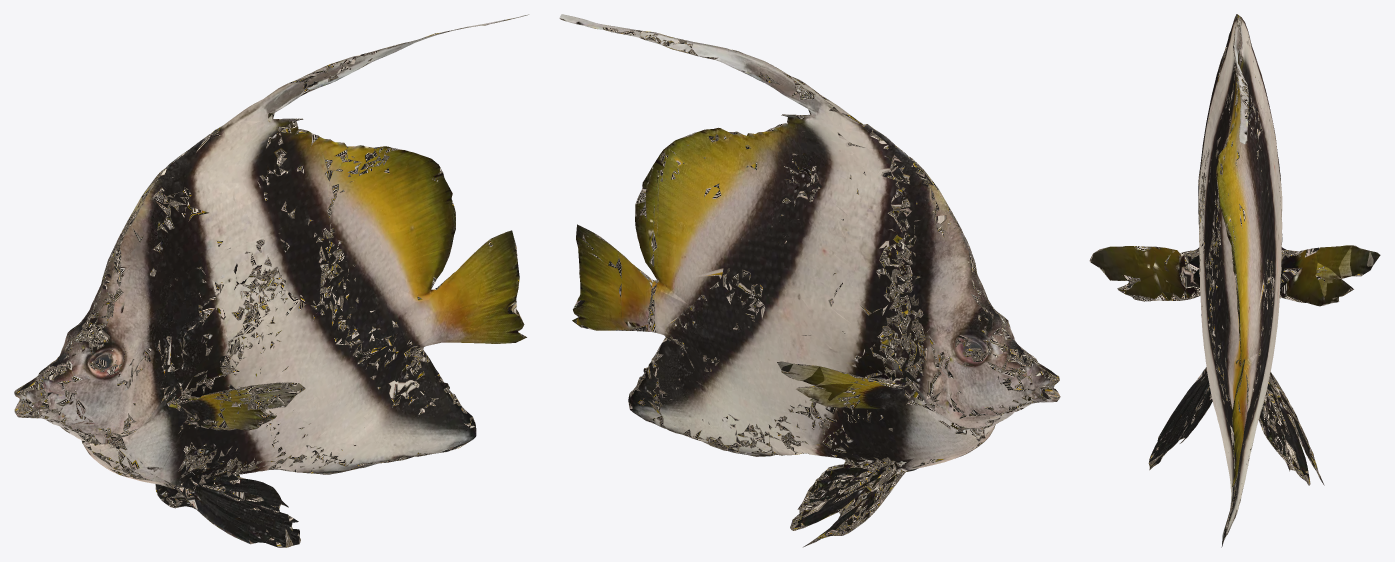
The model's file is coralfish.glb.
The picture shows the model from 3 angles, left to right: view 1: azimuth 30°, elevation 25°; view 2: azimuth 150°, elevation 25°; view 3: azimuth 270°, elevation 25°; orthographic projection. The views are drawn at different scales.
Visible parts, largest first — view 1: Object_6; view 2: Object_6; view 3: Object_6.
Boxes of the visible parts, bbox=[...] form: Object_6: bbox=[14, 14, 529, 547]; Object_6: bbox=[559, 14, 1060, 547]; Object_6: bbox=[1089, 14, 1380, 547].
Bounding box in the file's own units: 1 × 0.8517 × 0.4468.
1 material, 1 textured.
